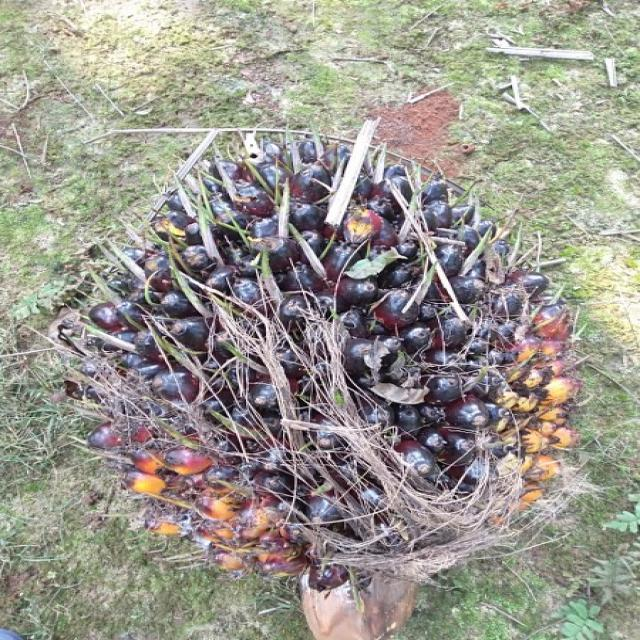fraksi 00: (21, 88, 636, 623)
